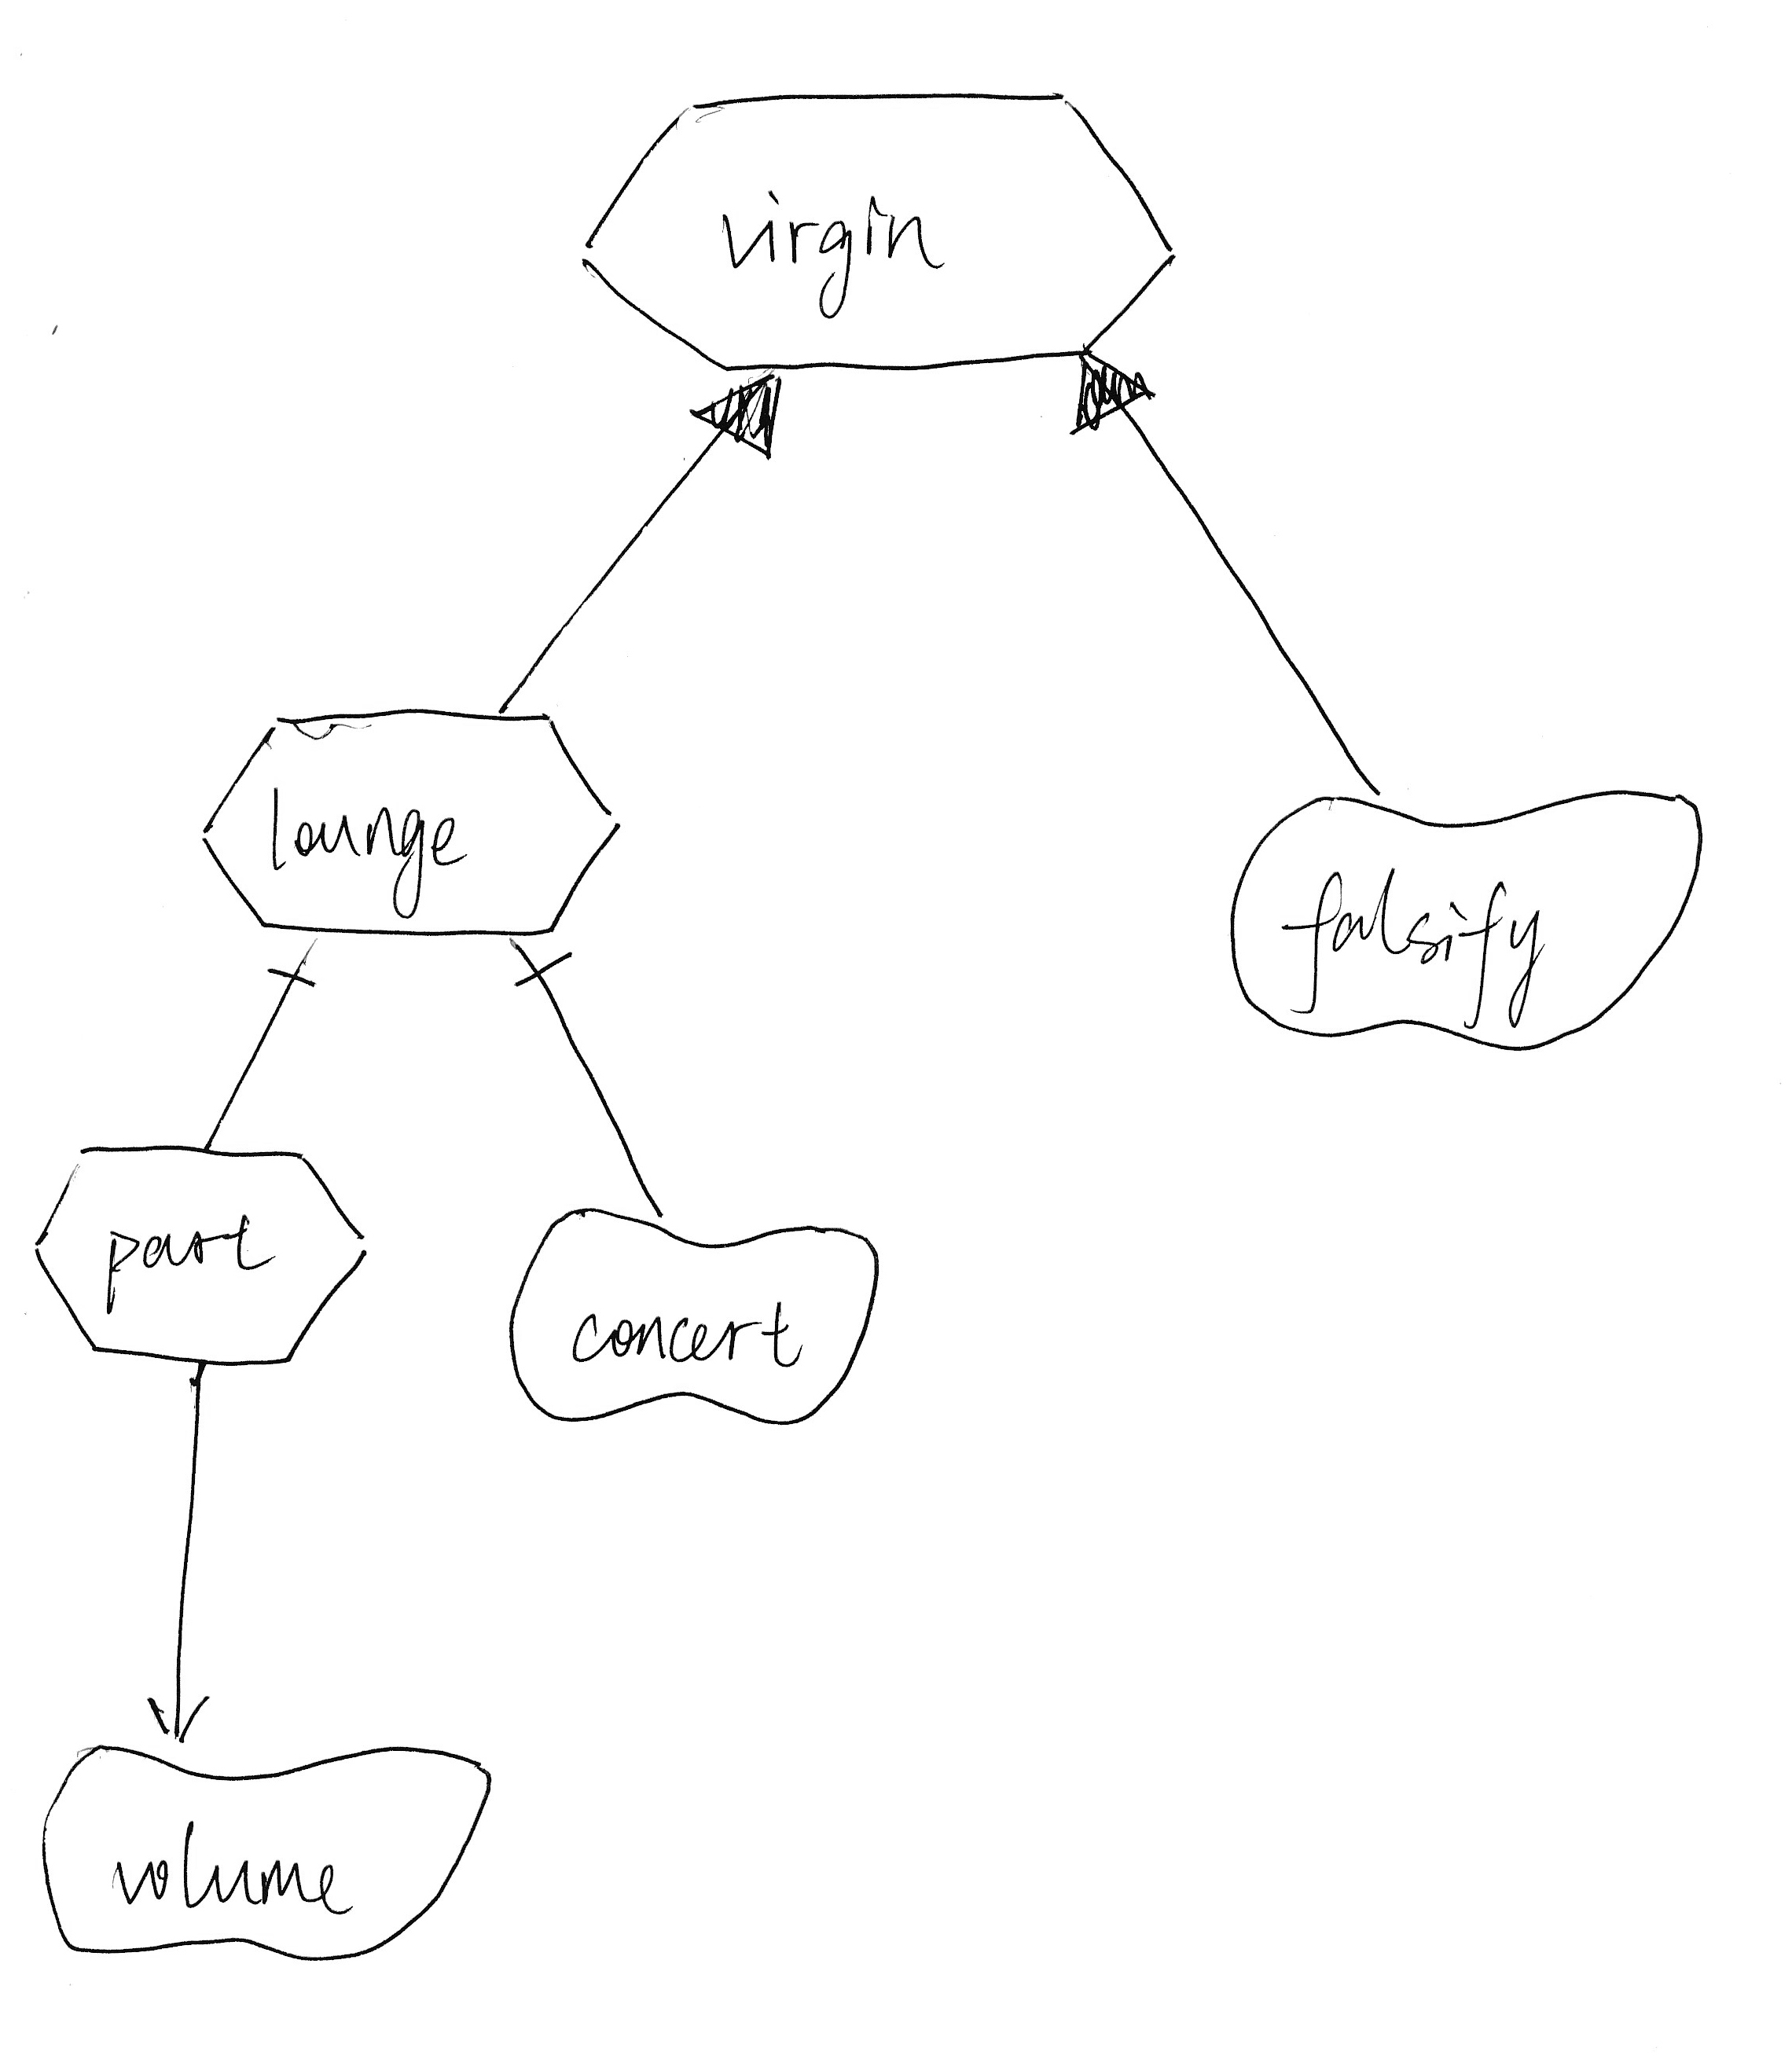and: (245, 933, 352, 1014), (497, 942, 599, 1014)
arrow: (133, 1683, 217, 1756)
or: (1032, 341, 1188, 453), (676, 366, 811, 481)
quality: (1214, 769, 1715, 1070), (30, 1730, 504, 1975), (489, 1191, 897, 1443)
task: (554, 54, 1195, 387), (186, 688, 641, 951), (28, 1131, 380, 1383)
